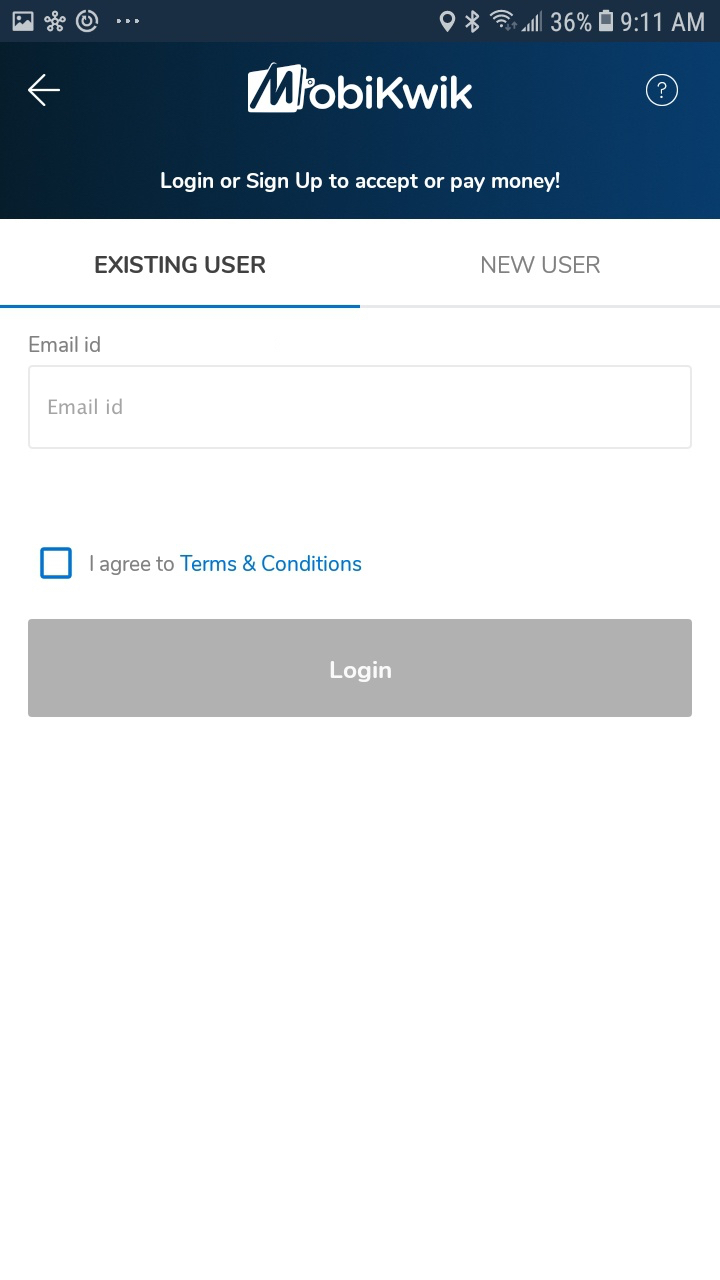CheckedTextView: (40, 547, 362, 580)
EditText: (28, 365, 692, 450)
Icon: (28, 75, 61, 108), (646, 75, 679, 108)
Image: (248, 63, 473, 115)
Text: (161, 168, 561, 194), (91, 555, 362, 576), (95, 256, 266, 274), (482, 256, 601, 274), (49, 399, 124, 416), (29, 336, 101, 353)
TextButton: (28, 619, 692, 718)
UpperTaskBar: (1, 1, 720, 43)
